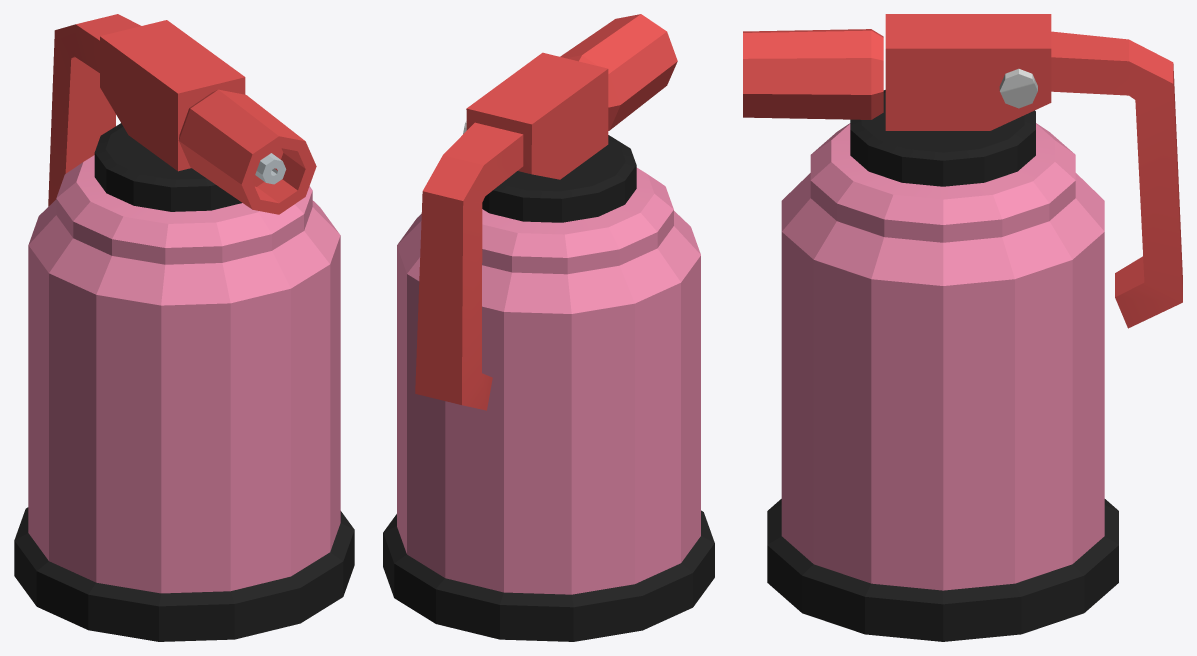
Rendered from Spray.fbx.
The picture shows the model from 3 angles, left to right: view 1: azimuth 30°, elevation 25°; view 2: azimuth 150°, elevation 25°; view 3: azimuth 270°, elevation 25°; orthographic projection. The views are drawn at different scales.
Parts seen in each view (by area): view 1: Spray; view 2: Spray; view 3: Spray.
Part boxes in pixels (x1,y1,x2,y2): Spray: (14, 14, 354, 641); Spray: (383, 14, 714, 641); Spray: (743, 14, 1182, 641).
Size of the model in its own units: 42.03 by 68.74 by 51.22.
1 material, 1 textured.
